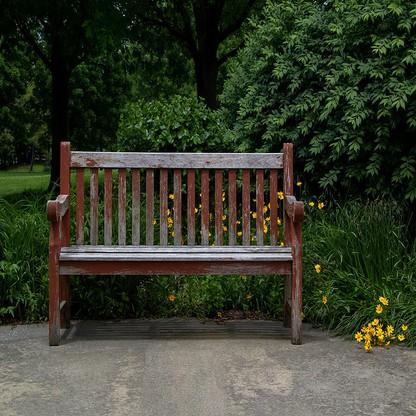obstacle: (35, 136, 315, 352)
